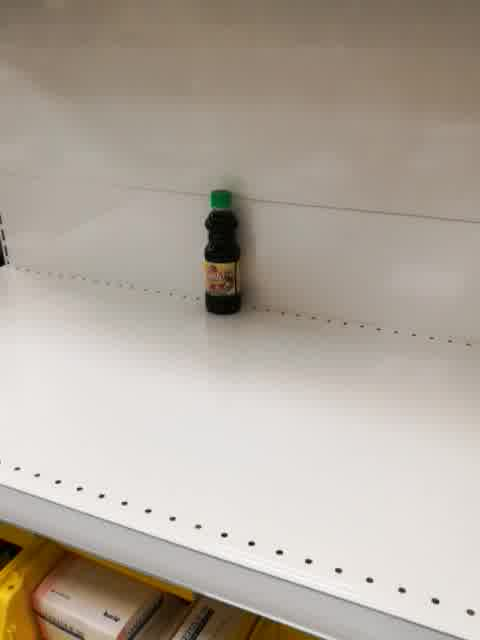cookingoil: (201, 188, 244, 316)
